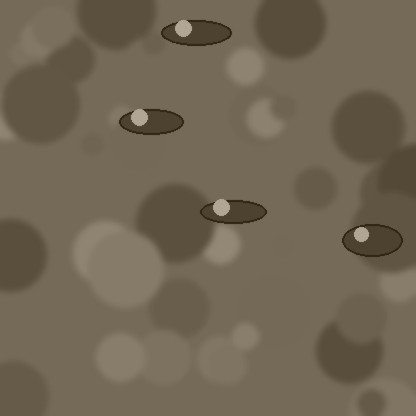gota: (342, 225, 402, 259), (161, 21, 231, 47), (119, 110, 183, 136), (200, 201, 266, 225)
